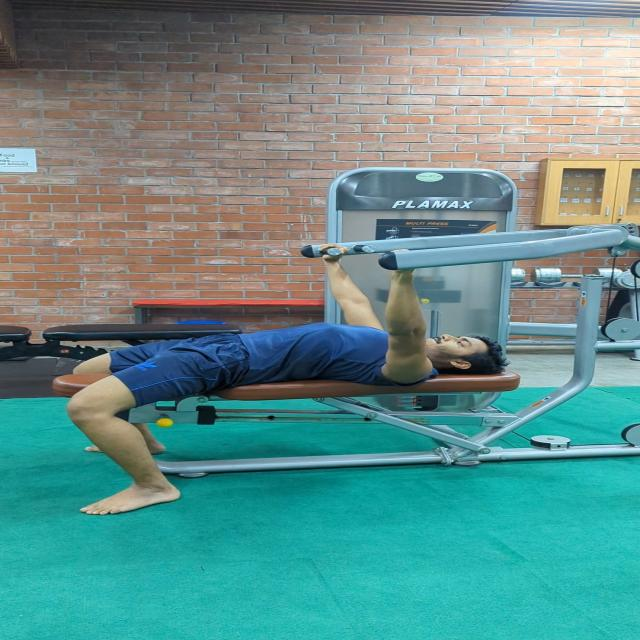Normal_BrenchPress: (46, 212, 524, 517)
